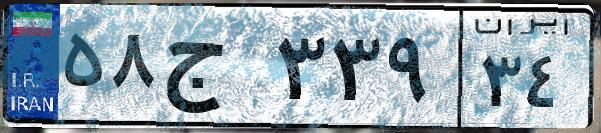3: (270, 28, 330, 110), (330, 28, 385, 110), (475, 38, 525, 113)
4: (525, 38, 570, 115)
5: (57, 26, 110, 100)
8: (110, 28, 158, 98)
9: (385, 28, 445, 110)
ج: (158, 20, 270, 120)
